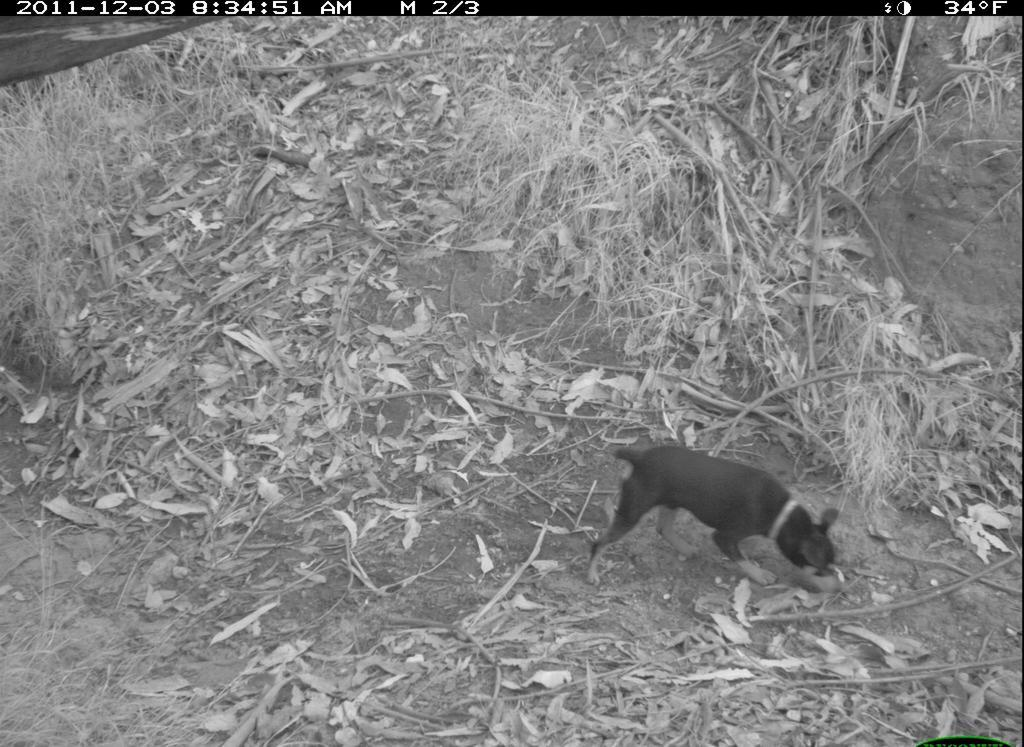dog: (582, 433, 862, 604)
